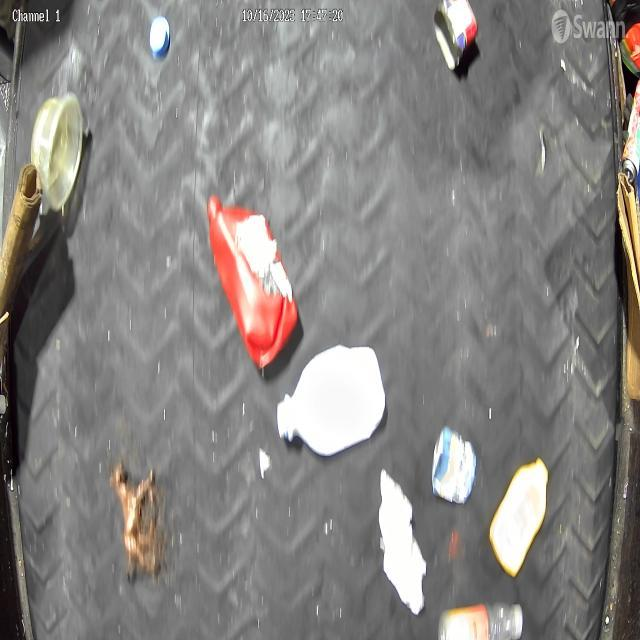can: (430, 426, 478, 504), (433, 0, 479, 72)
milk_jug: (276, 343, 386, 458)
non_white_jug: (206, 193, 300, 370), (490, 457, 550, 578)
plastic_bottle: (437, 601, 524, 640)
